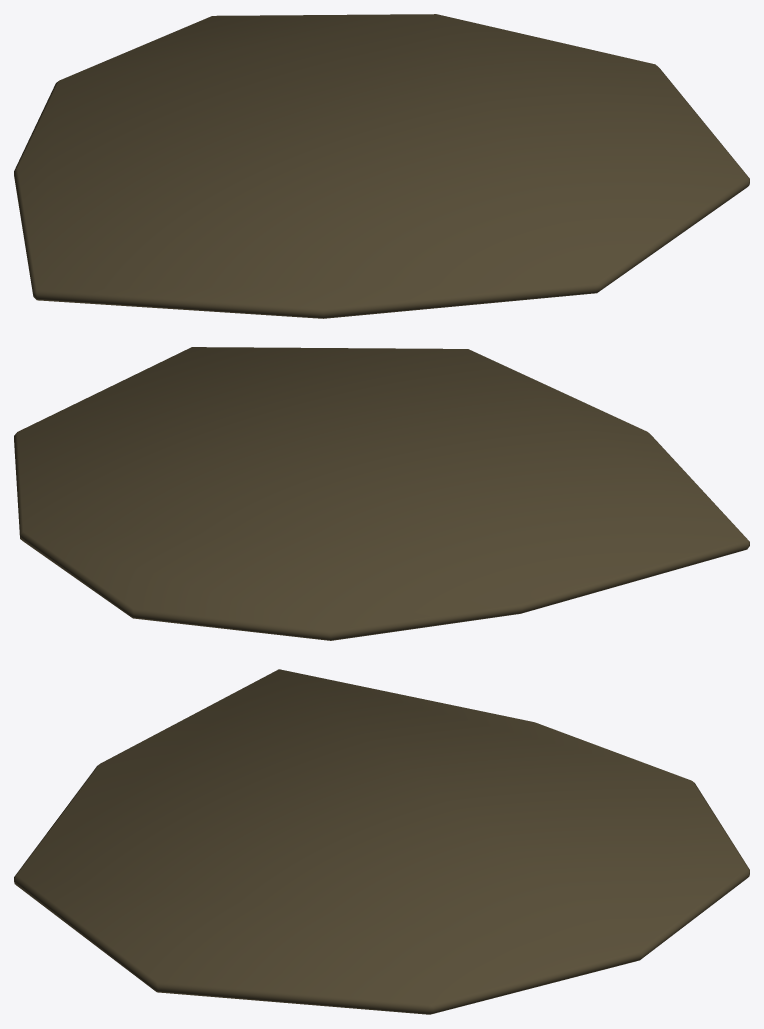
The model's file is sticky_patch.glb.
3 views of the same model, one above another, from view 1: azimuth 30°, elevation 25°; view 2: azimuth 150°, elevation 25°; view 3: azimuth 270°, elevation 25° (orthographic). The views are drawn at different scales.
Parts seen in each view (by area): view 1: sticky_patch; view 2: sticky_patch; view 3: sticky_patch.
Boxes of the visible parts, <box> form: sticky_patch: <box>14,14,749,318</box>; sticky_patch: <box>14,347,749,640</box>; sticky_patch: <box>14,669,749,1014</box>.
Bounding box in the file's own units: 0.1387 × 0.002 × 0.1278.
